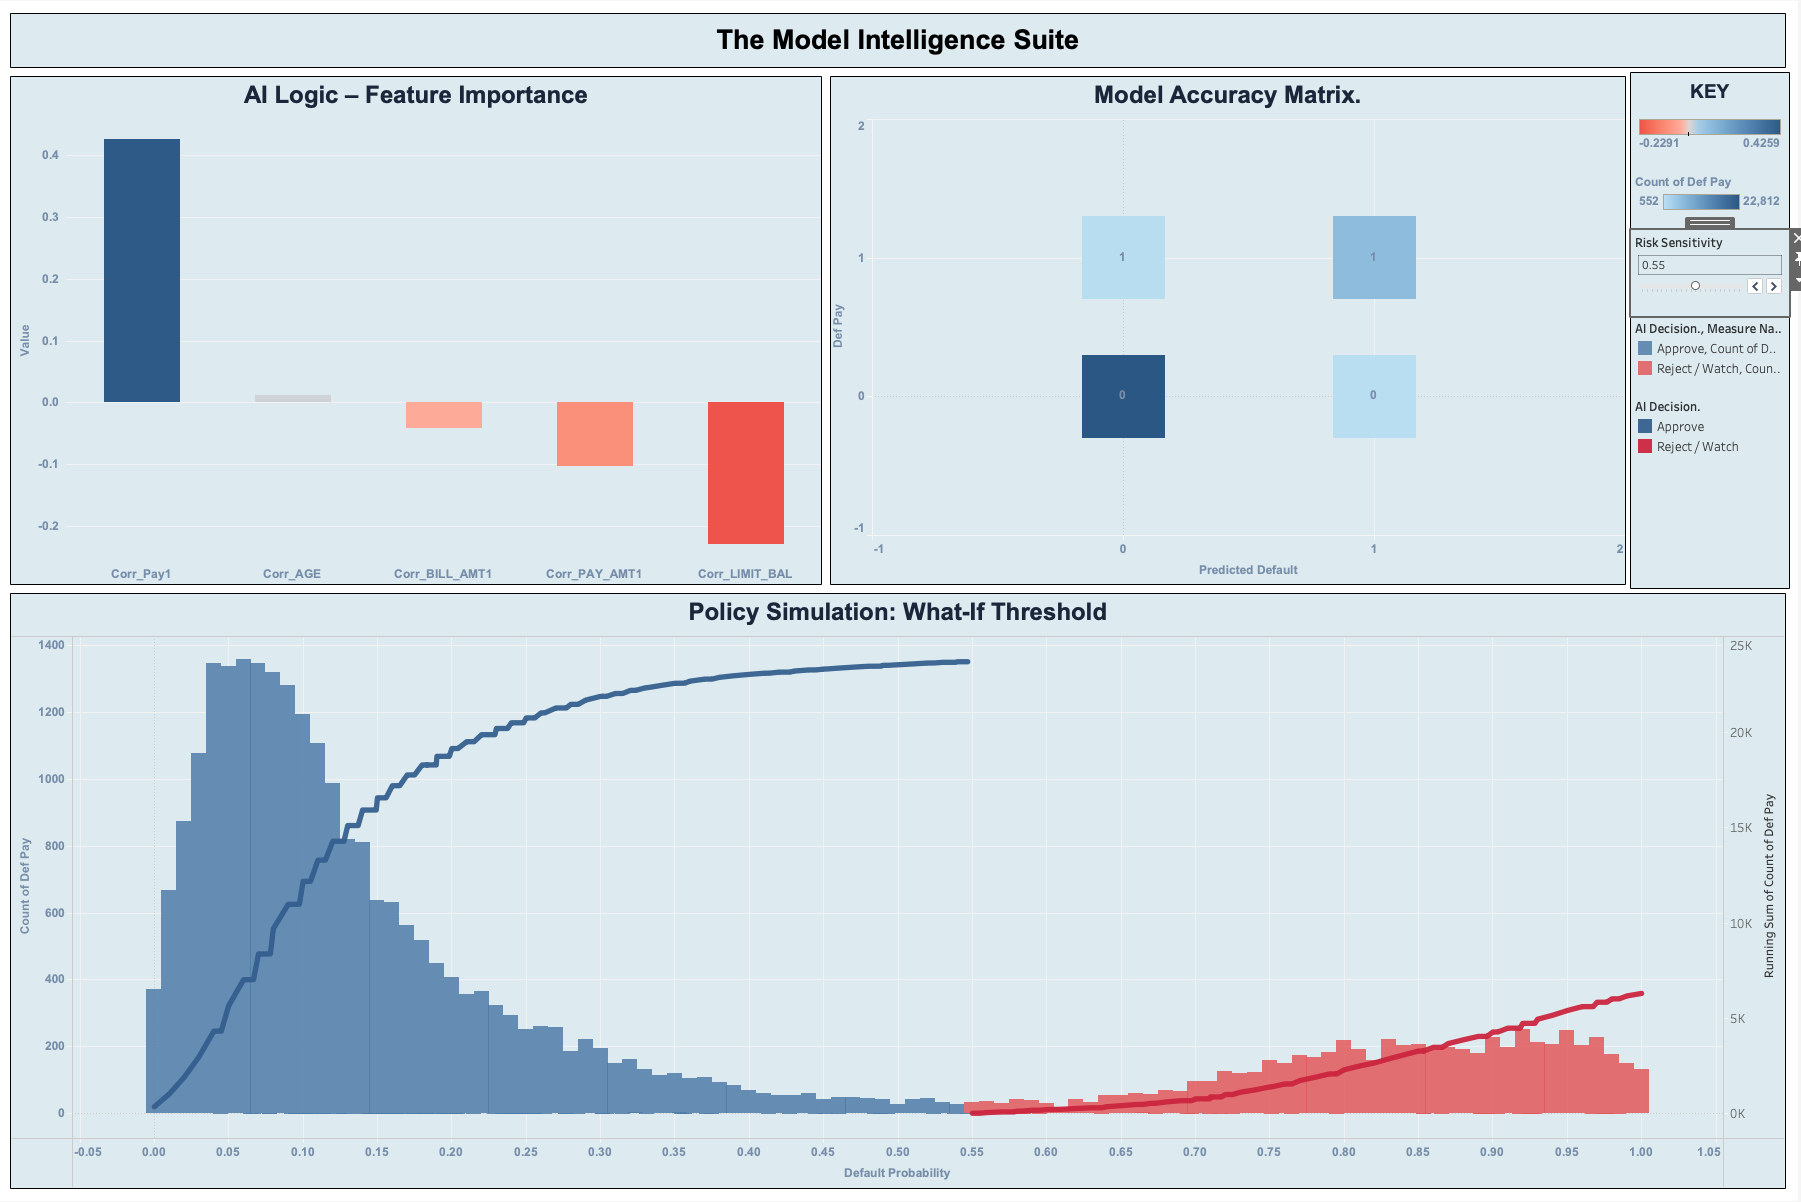

This screenshot's page, from the dashboard's own definition file:
{"tool":"tableau","page":{"name":"Model Diagnostics & AI Insights","canvas":[1000,1000],"units":"permille","ordinal":2},"visuals":[{"type":"text","box":[4.4,6.7,991.1,52.5]},{"type":"worksheet","title":"AI Logic – Feature Importance","mark":"Bar","box":[4.4,59.2,455.6,430.9]},{"type":"worksheet","title":"Model Accuracy Matrix.","mark":"Square","rows":["DEF_PAY"],"cols":["Predicted_Default"],"box":[460,59.2,446.7,430.9]},{"type":"text","box":[907.2,60,87.8,31.7]},{"type":"legend","title":"AI Logic – Feature Importance","param":"[federated.19o4k6d0xfxazs15hbexa0zoof00].[Multiple Values]","box":[907.2,91.7,87.8,50]},{"type":"legend","title":"Model Accuracy Matrix.","param":"[federated.19o4k6d0xfxazs15hbexa0zoof00].[cnt:DEF_PAY:qk]","box":[907.2,141.7,87.8,49.2]},{"type":"parameter","param":"[Parameters].[Parameter 1]","box":[907.2,190.8,87.8,71.7]},{"type":"legend","title":"Risk Sensitivity","param":"[federated.19o4k6d0xfxazs15hbexa0zoof00].[none:Calculation_0262409960452107:nk]\n","box":[907.2,262.5,87.8,65]},{"type":"legend","title":"Risk Sensitivity","param":"[federated.19o4k6d0xfxazs15hbexa0zoof00].[none:Calculation_0262409960452107:nk]","box":[907.2,327.5,87.8,62.5]},{"type":"worksheet","title":"Risk Sensitivity","mark":"Automatic","rows":["DEF_PAY","DEF_PAY"],"cols":["Default_Probability"],"box":[4.4,490.1,991.1,503.2]}]}

Visuals, with their boxes on the dashboard's canvas, which has no fixed pixel size, in thousandths of its width and height (x1, y1, x2, y2). These are canvas units, not pixel positions in the 1801x1202 screenshot, which may show the page scaled, cropped or inside an application window:
text: (left=4, top=7, right=996, bottom=59)
"AI Logic – Feature Importance" worksheet (Bar marks): (left=4, top=59, right=460, bottom=490)
"Model Accuracy Matrix." worksheet (Square marks): (left=460, top=59, right=907, bottom=490)
text: (left=907, top=60, right=995, bottom=92)
"AI Logic – Feature Importance" legend: (left=907, top=92, right=995, bottom=142)
"Model Accuracy Matrix." legend: (left=907, top=142, right=995, bottom=191)
parameter: (left=907, top=191, right=995, bottom=262)
"Risk Sensitivity" legend: (left=907, top=262, right=995, bottom=328)
"Risk Sensitivity" legend: (left=907, top=328, right=995, bottom=390)
"Risk Sensitivity" worksheet: (left=4, top=490, right=996, bottom=993)
